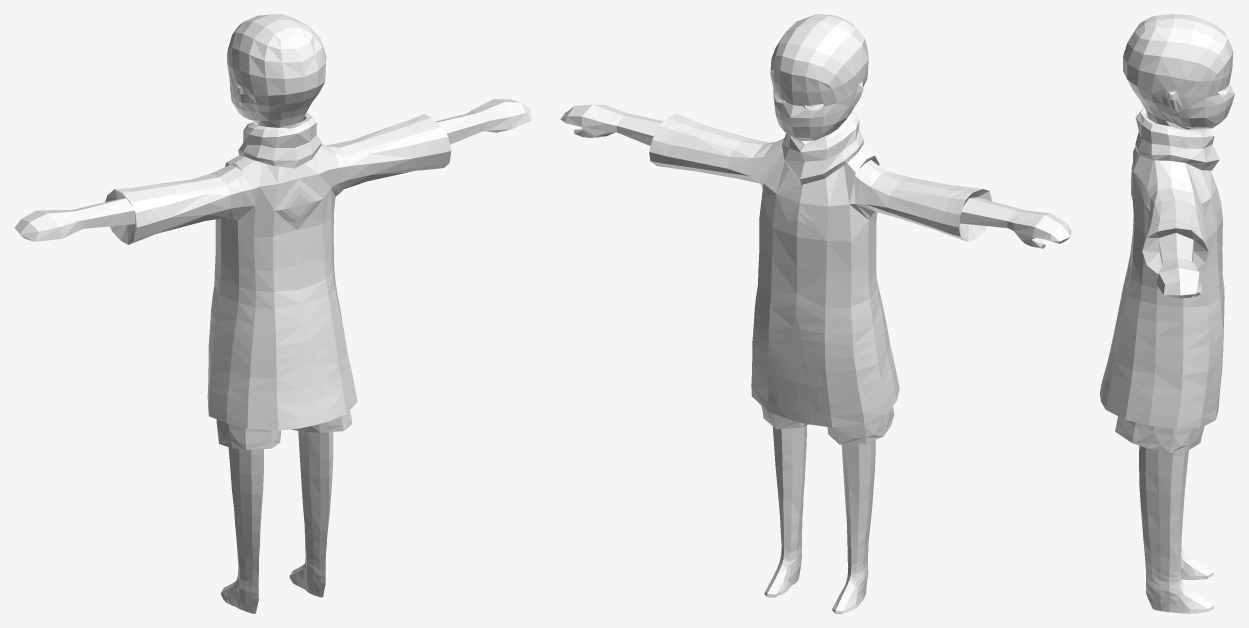
Rendered from CharSkyKid_Body_Perfect.glb.
3 renders of one model, left to right at view 1: azimuth 30°, elevation 25°; view 2: azimuth 150°, elevation 25°; view 3: azimuth 270°, elevation 25°, orthographic.
Visible parts, largest first — view 1: CharSkyKid_Body_Perfect; view 2: CharSkyKid_Body_Perfect; view 3: CharSkyKid_Body_Perfect.
Boxes of the visible parts, box(x1,y1,x2,y2) form: CharSkyKid_Body_Perfect: box(14, 14, 531, 613); CharSkyKid_Body_Perfect: box(560, 14, 1071, 613); CharSkyKid_Body_Perfect: box(1100, 14, 1234, 613).
Size of the model in its own units: 13.83 by 14.94 by 3.18.
1 material, 1 textured.
